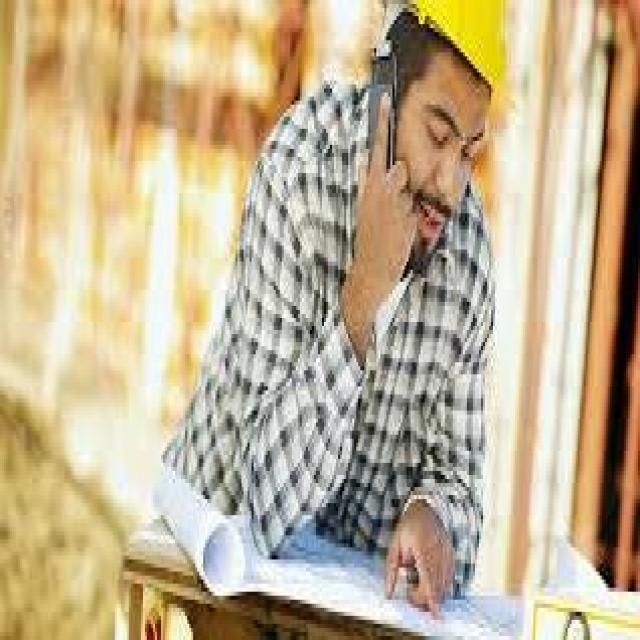Safety-Helmet: (382, 0, 522, 101)
